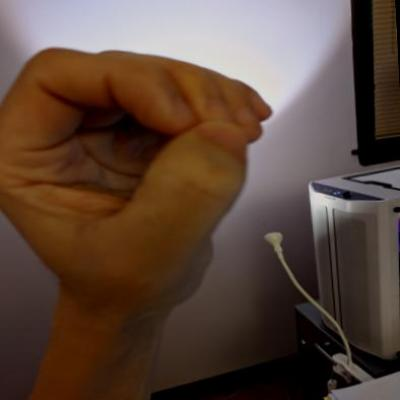hand: (0, 29, 291, 330)
